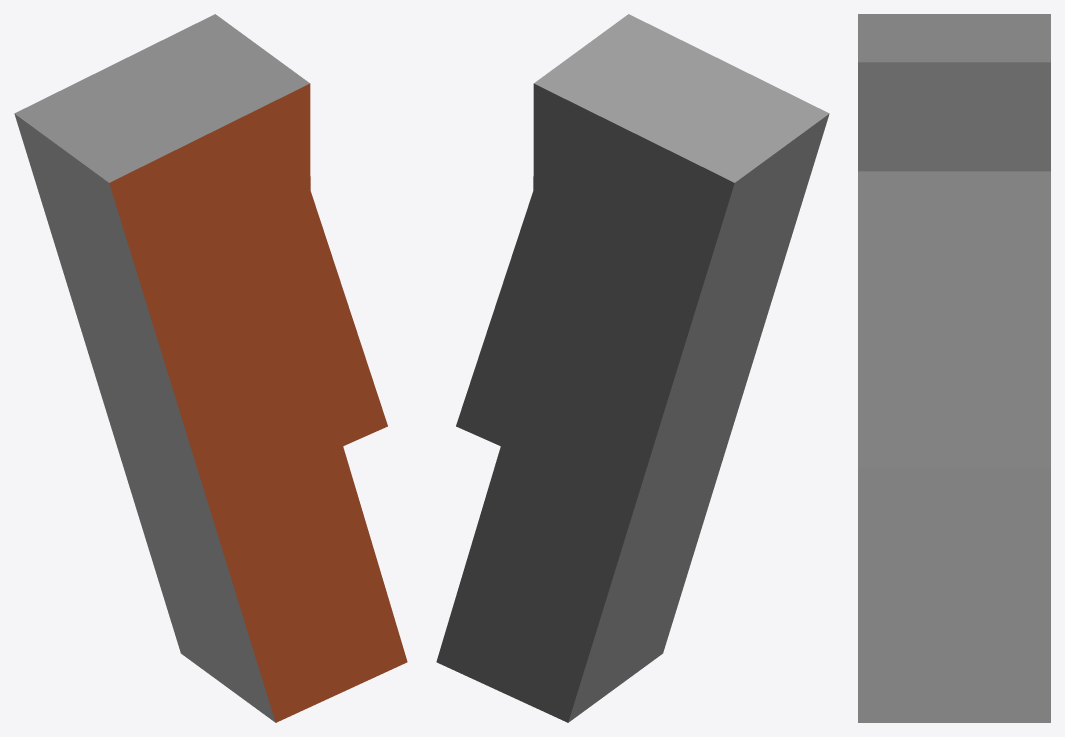
File: construction_1966_assumed_A_Casa_h6m.obj
The picture shows the model from 3 angles, left to right: view 1: azimuth 30°, elevation 25°; view 2: azimuth 150°, elevation 25°; view 3: azimuth 270°, elevation 25°; orthographic projection.
Parts seen in each view (by area): view 1: construction_1966_assumed_A_Casa; view 2: construction_1966_assumed_A_Casa; view 3: construction_1966_assumed_A_Casa.
Part boxes in pixels (x1,y1,x2,y2): construction_1966_assumed_A_Casa: (14,14,407,722); construction_1966_assumed_A_Casa: (436,14,829,722); construction_1966_assumed_A_Casa: (858,14,1050,722).
Size of the model in its own units: 10.9 by 22.02 by 6.
